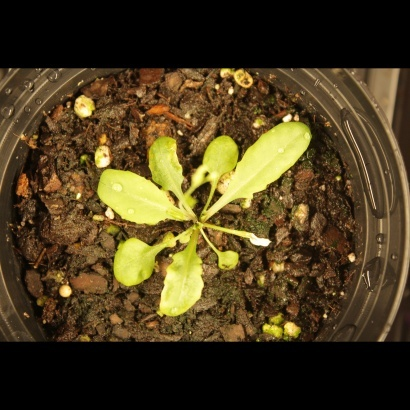leaf: (226, 117, 320, 203), (93, 167, 179, 229), (159, 235, 209, 322), (104, 233, 160, 289), (141, 127, 189, 192), (198, 130, 242, 180), (213, 244, 250, 278)
